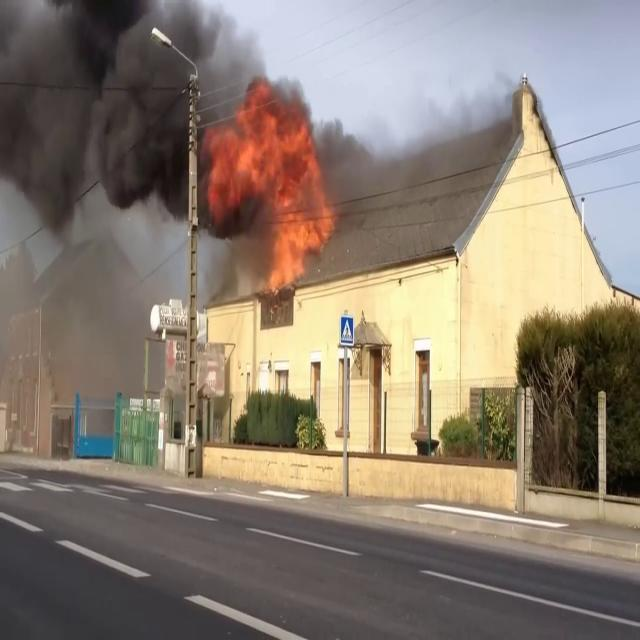Fire: (208, 84, 339, 294)
Smoke: (0, 0, 252, 241)
